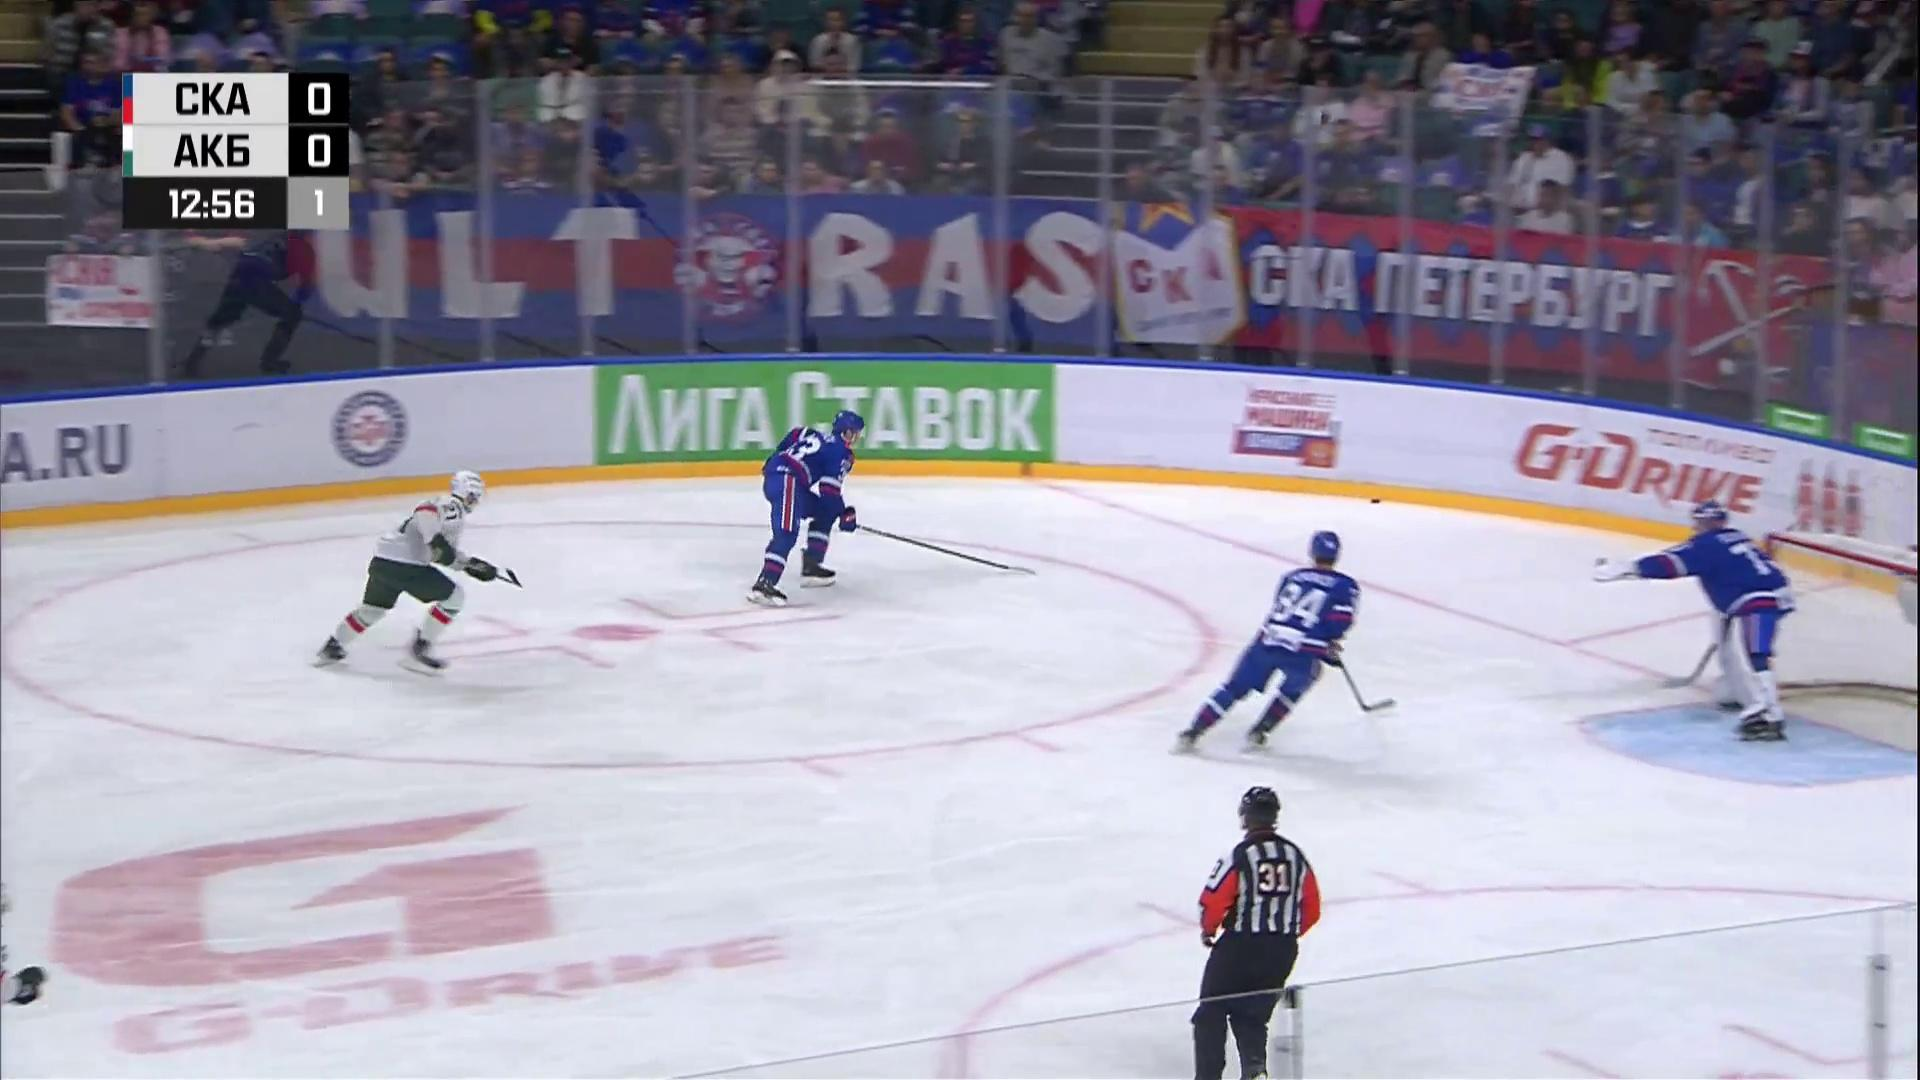ball: (1370, 498, 1381, 505)
